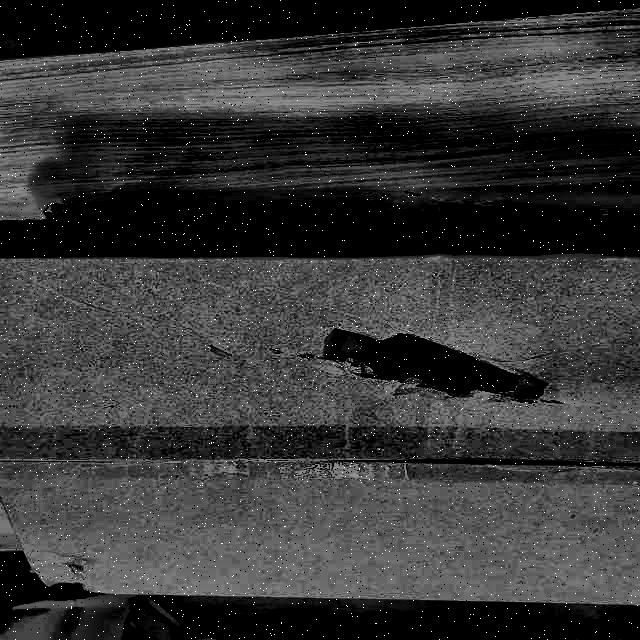box: (1, 183, 640, 614)
hole: (326, 327, 537, 402)
